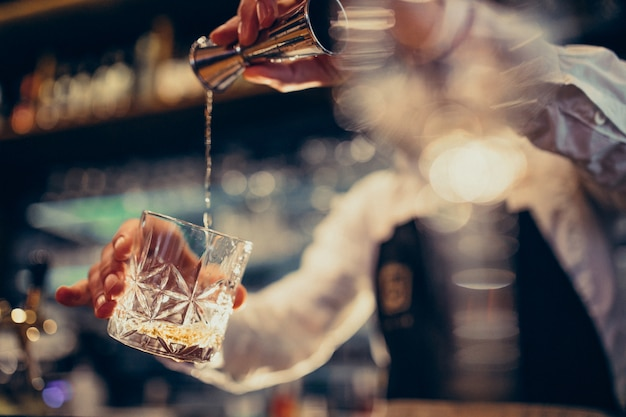alcohol: (108, 206, 254, 369)
